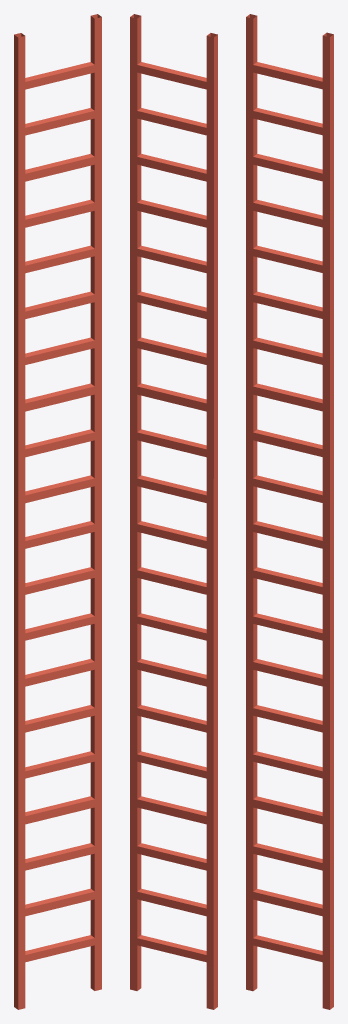
Rendered from Ladder.fbx.
The picture shows the model from 3 angles, left to right: view 1: azimuth 30°, elevation 25°; view 2: azimuth 150°, elevation 25°; view 3: azimuth 330°, elevation 25°; orthographic projection.
Visible parts, largest first — view 1: SM_Mobile_Tower001.001; view 2: SM_Mobile_Tower001.001; view 3: SM_Mobile_Tower001.001.
Part boxes in pixels (box(x1,y1,x2,y2)): SM_Mobile_Tower001.001: box(14, 14, 101, 1009); SM_Mobile_Tower001.001: box(130, 14, 217, 1009); SM_Mobile_Tower001.001: box(246, 14, 333, 1009).
Size of the model in its own units: 43.74 by 485 by 3.76.
